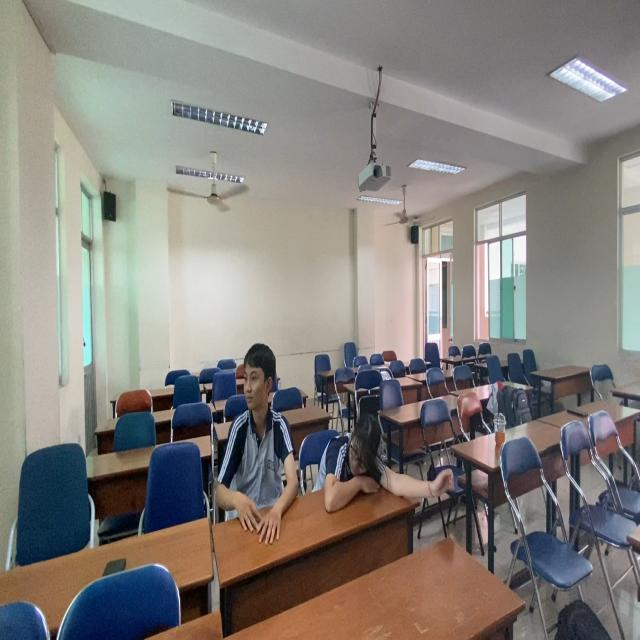sleep: (311, 413, 417, 518)
